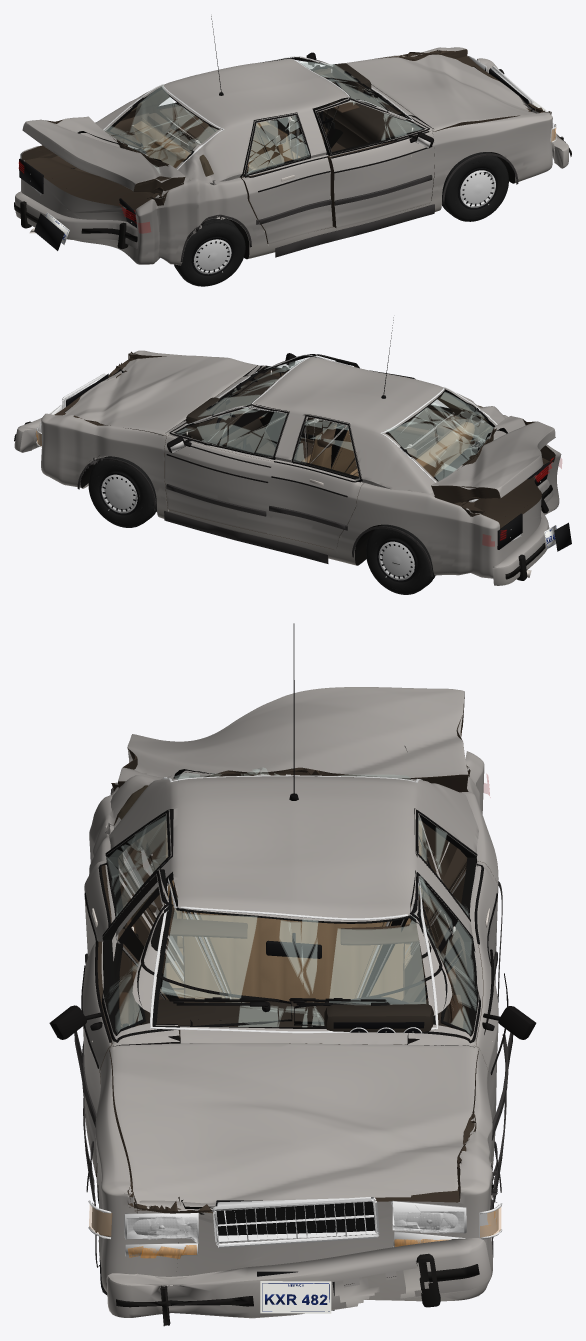
Rendered from sedan87_rear_corner_R_d1_lod1.glb.
3 renders of one model, top to bottom at view 1: azimuth 30°, elevation 25°; view 2: azimuth 150°, elevation 25°; view 3: azimuth 270°, elevation 25°, orthographic. The views are drawn at different scales.
Parts seen in each view (by area): view 1: Body, Hood, Door_FR, Interior, Trunk, Door_RR, Glass, Wheel_FR_mesh, Wheel_RR_mesh, Trim, Bumper_R, Ends (+6 smaller); view 2: Body, Hood, Door_FL, Interior, Glass, Door_RL, Trunk, Wheel_FL_mesh, Wheel_RL_mesh, Trim, Glass_FL, Bumper_R (+9 smaller); view 3: Body, Hood, Interior, Trunk, Glass, Ends, Bumper_F, Door_FR, Door_FL, Trim_FR, Door_RR, Trim_FL (+10 smaller).
Boxes of the visible parts, x1,y1,x2,y2 form: Body: (20,47,552,265); Hood: (345,54,539,131); Door_FR: (313,99,434,228); Interior: (132,63,415,171); Trunk: (22,116,185,192); Door_RR: (240,112,332,244); Glass: (103,56,413,173); Wheel_FR_mesh: (442,152,508,221); Wheel_RR_mesh: (174,218,245,286); Trim: (180,16,518,261); Bumper_R: (14,191,137,249); Ends: (19,56,556,250); Body: (41,350,561,578); Hood: (65,355,257,435); Door_FL: (164,404,289,533); Interior: (184,373,474,477); Glass: (185,354,497,502); Door_RL: (268,414,363,549); Trunk: (431,416,555,502); Wheel_FL_mesh: (88,456,156,527); Wheel_RL_mesh: (366,524,435,594); Trim: (77,317,433,576); Glass_FL: (174,404,288,456); Bumper_R: (492,479,553,585); Body: (89,751,498,1301); Hood: (109,1043,478,1214); Interior: (138,820,449,1039); Trunk: (118,687,468,792); Glass: (150,767,438,1033); Ends: (88,1196,502,1313); Bumper_F: (106,1238,491,1326); Door_FR: (82,869,179,1176); Door_FL: (408,870,498,1166); Trim_FR: (49,870,292,1127); Door_RR: (84,809,173,1024); Trim_FL: (294,872,536,1140).
Size of the model in its own units: 4.91 by 2.17 by 2.09.
Materials: 33 (5 with a texture image).
